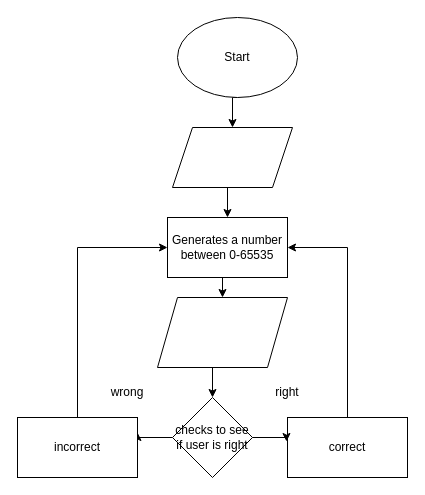
Image size: 425x495. Some labels were removed from this diagram. The centre of each missing label's shape, as x and y in pixels:
initialize: (x=232, y=157)
user has to decode binary number: (x=222, y=332)
